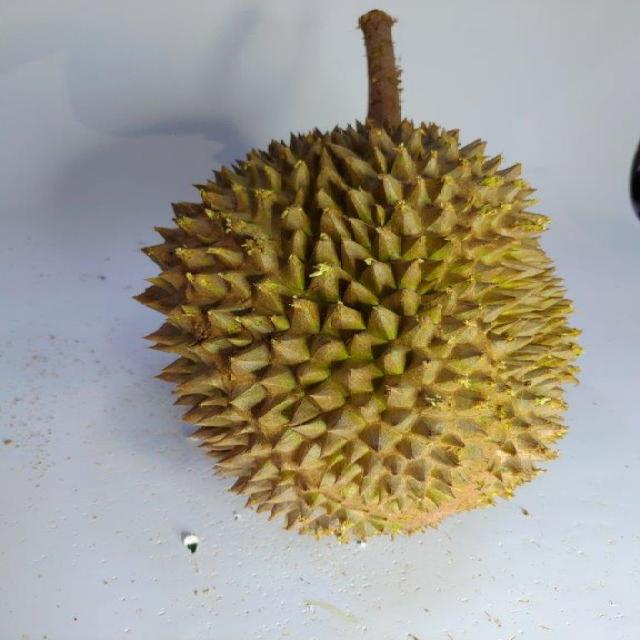mature: (141, 119, 584, 545)
